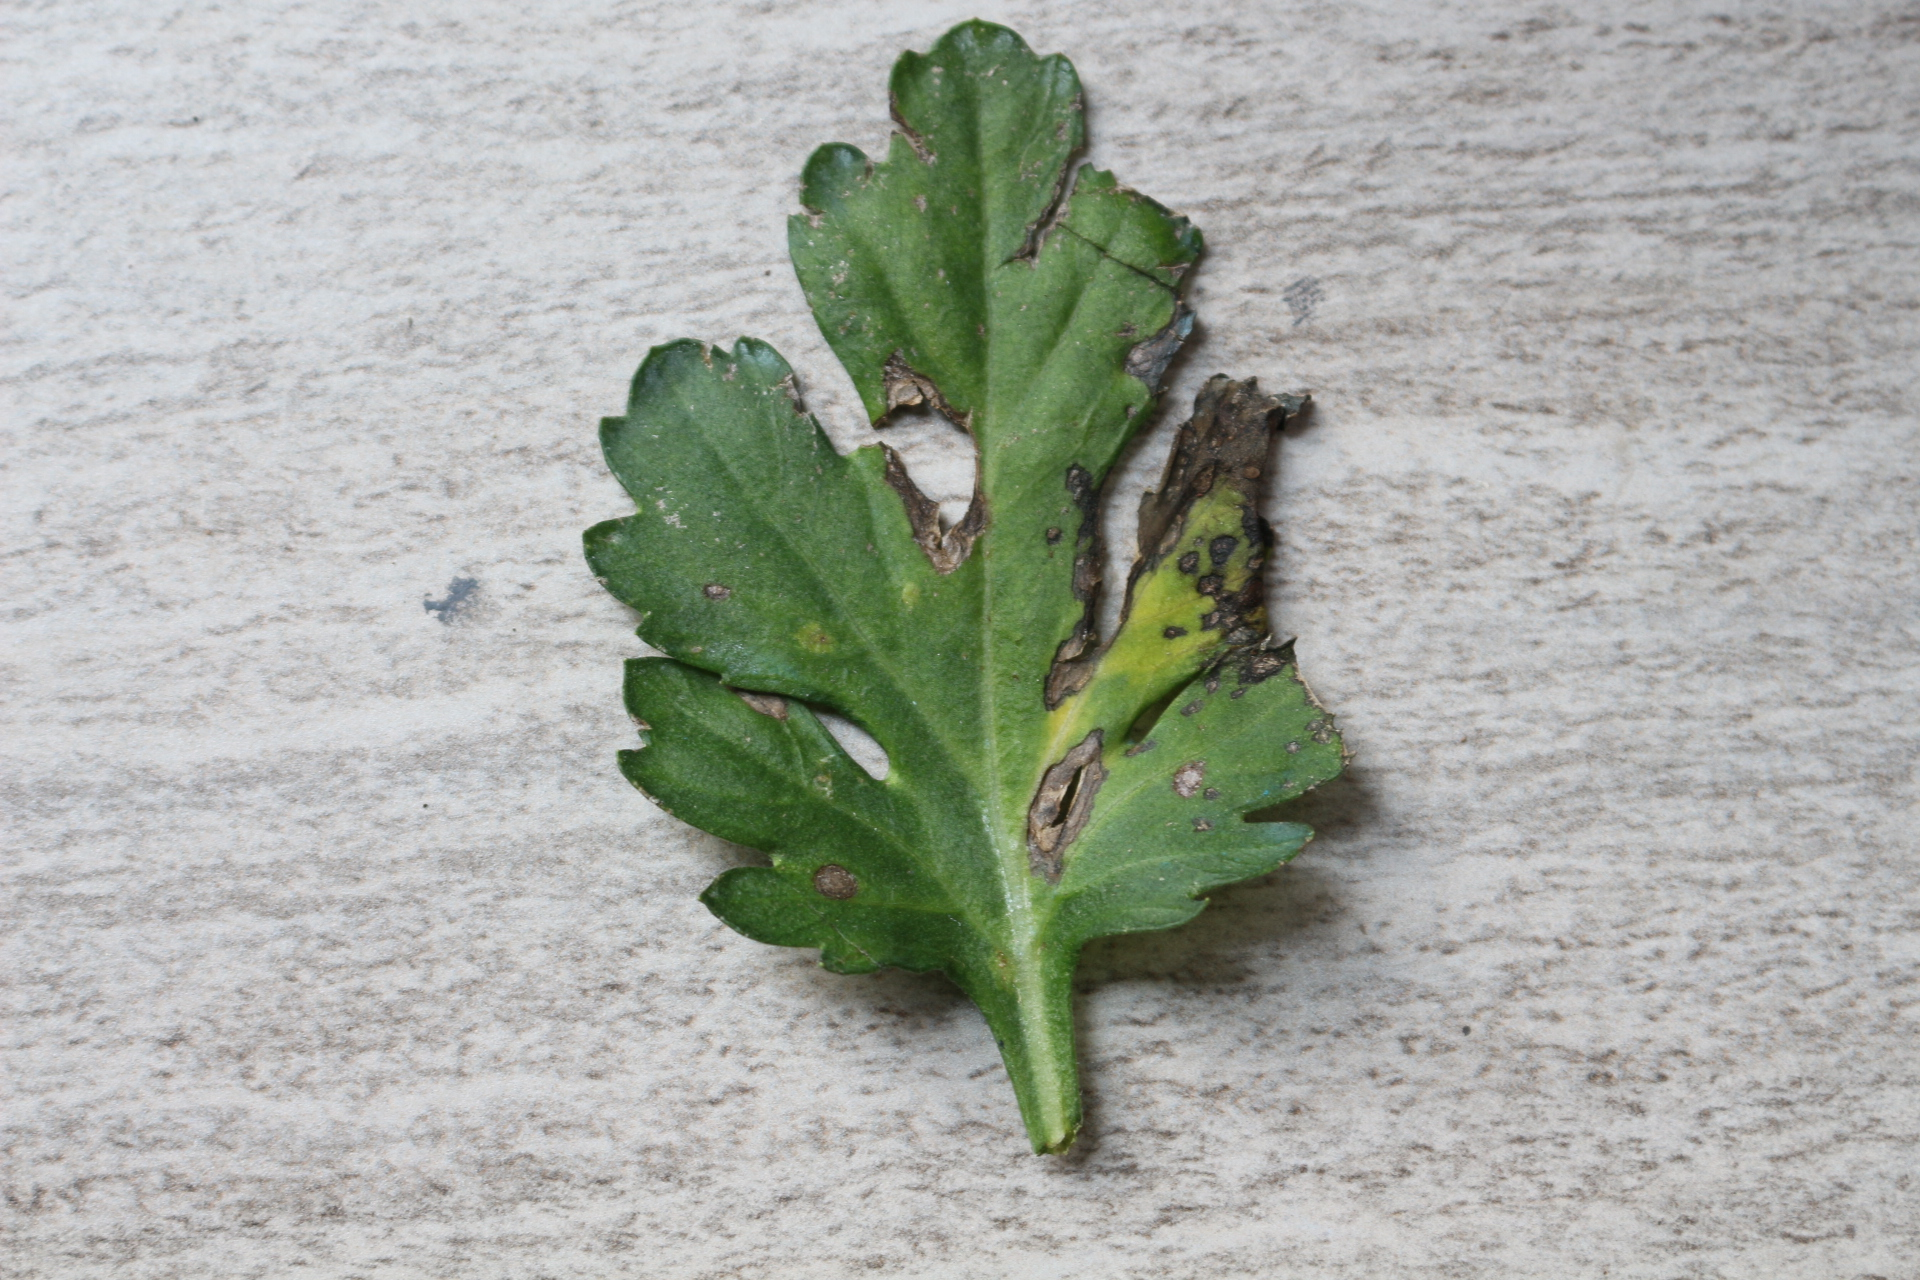namden: (809, 857, 866, 903), (1169, 764, 1206, 799)
namsung: (791, 623, 850, 663), (891, 579, 929, 611)
